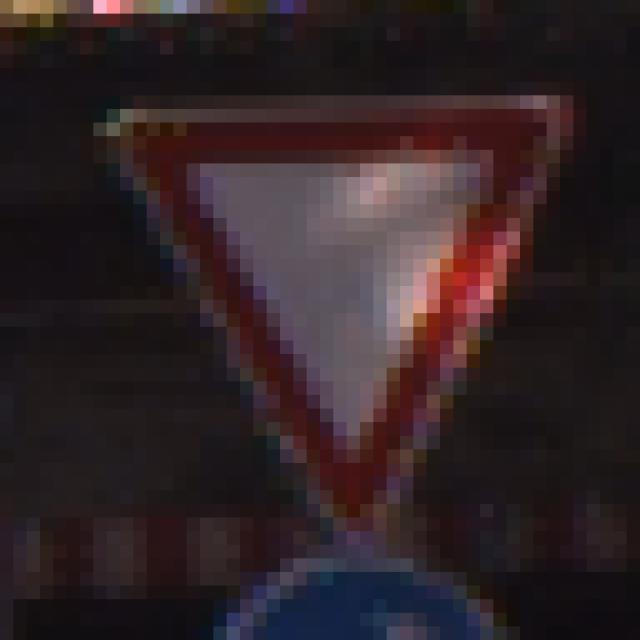Give Way: (68, 69, 574, 573)
